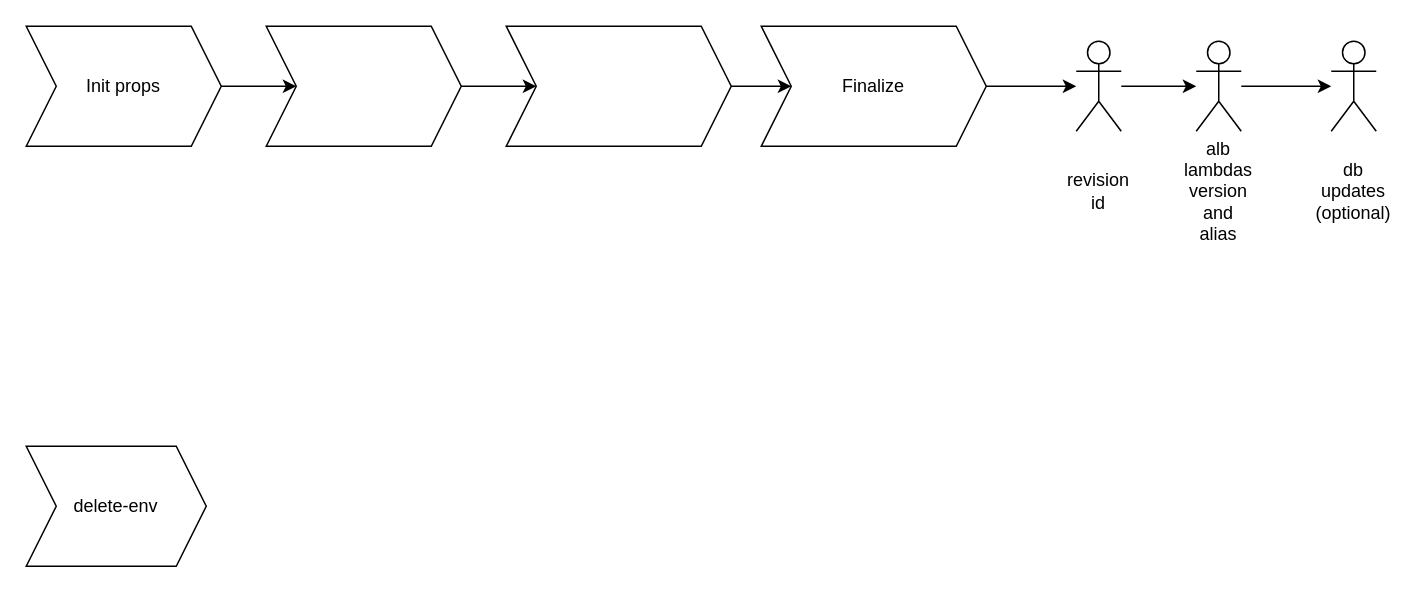
This 1418x593 diagram has some shape labels left out. The box of each missing label's shape, as (x1, y1, x2, y2) in pixels:
CDK: (505, 25, 731, 146)
SCM: (265, 25, 461, 146)
